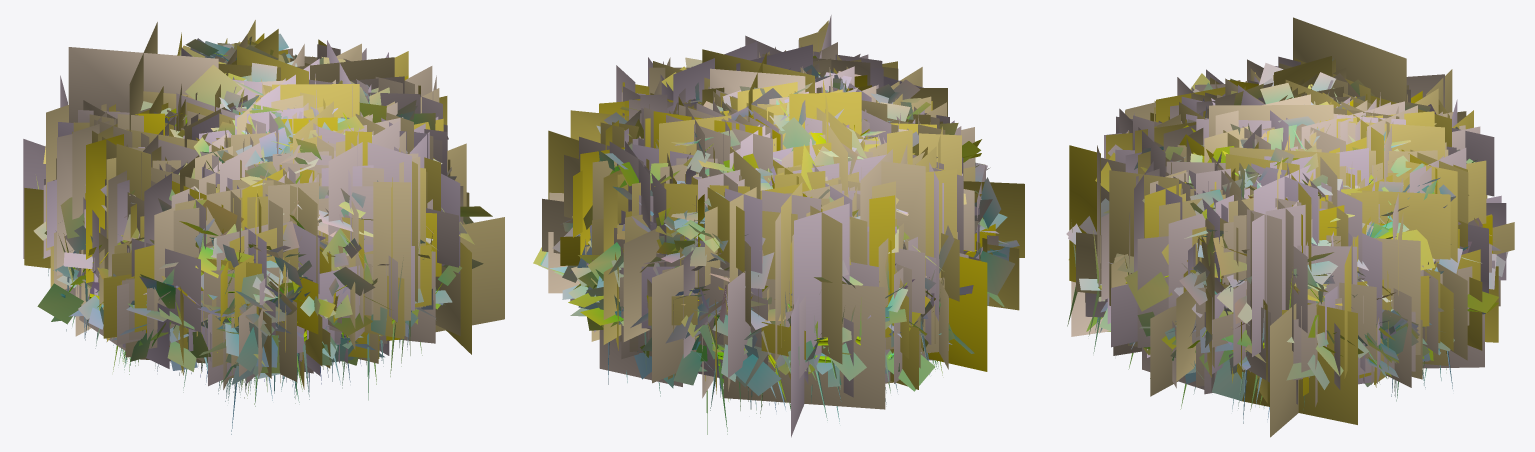
Rendered from heathKit.glb.
3 renders of one model, left to right at view 1: azimuth 30°, elevation 25°; view 2: azimuth 150°, elevation 25°; view 3: azimuth 270°, elevation 25°, orthographic. The views are drawn at different scales.
Visible parts, largest first — view 1: plant_rice_0_L1, plant_pigface_0_L1, plant_daisy_0_L1, plant_daisy_2_L1, plant_green_3_L1, plant_pigface_2_L1, plant_green_0_L0, plant_green_0_L1, plant_tall_2_L1, plant_rice_2_L0, plant_tall_3_L1, plant_pigface_3_L1 (+22 smaller); view 2: plant_green_3_L1, plant_pigface_1_L1, plant_rice_1_L1, plant_rice_3_L1, plant_daisy_0_L1, plant_pigface_3_L1, plant_tall_0_L1, plant_pigface_0_L1, plant_pigface_2_L1, plant_rice_2_L1, plant_rice_0_L1, plant_green_3_L0 (+23 smaller); view 3: plant_rice_2_L1, plant_rice_1_L1, plant_pigface_1_L1, plant_tall_0_L1, plant_rice_3_L1, plant_rice_0_L1, plant_daisy_0_L1, plant_pigface_3_L1, plant_daisy_3_L1, plant_pigface_0_L1, plant_rice_1_L0, plant_green_2_L1 (+23 smaller).
Part boxes in pixels (box(x1,y1,x2,y2)): plant_rice_0_L1: box(68, 22, 469, 383); plant_pigface_0_L1: box(57, 39, 442, 325); plant_daisy_0_L1: box(65, 44, 447, 368); plant_daisy_2_L1: box(24, 51, 504, 354); plant_green_3_L1: box(23, 40, 443, 367); plant_pigface_2_L1: box(94, 44, 420, 283); plant_green_0_L0: box(69, 57, 435, 384); plant_green_0_L1: box(44, 45, 463, 378); plant_tall_2_L1: box(117, 77, 402, 366); plant_rice_2_L0: box(51, 64, 483, 376); plant_tall_3_L1: box(127, 76, 460, 335); plant_pigface_3_L1: box(46, 38, 438, 283); plant_green_3_L1: box(570, 41, 930, 437); plant_pigface_1_L1: box(609, 35, 963, 321); plant_rice_1_L1: box(548, 49, 968, 369); plant_rice_3_L1: box(548, 54, 987, 394); plant_daisy_0_L1: box(625, 44, 987, 383); plant_pigface_3_L1: box(612, 47, 923, 364); plant_tall_0_L1: box(542, 40, 979, 397); plant_pigface_0_L1: box(580, 20, 961, 361); plant_pigface_2_L1: box(599, 89, 961, 347); plant_rice_2_L1: box(592, 51, 974, 389); plant_rice_0_L1: box(594, 15, 1024, 398); plant_green_3_L0: box(568, 64, 981, 395); plant_rice_2_L1: box(1071, 56, 1440, 437); plant_rice_1_L1: box(1101, 97, 1506, 403); plant_pigface_1_L1: box(1109, 66, 1466, 356); plant_tall_0_L1: box(1156, 77, 1494, 351); plant_rice_3_L1: box(1135, 78, 1501, 406); plant_rice_0_L1: box(1076, 17, 1498, 382); plant_daisy_0_L1: box(1154, 75, 1482, 404); plant_pigface_3_L1: box(1104, 69, 1467, 282); plant_daisy_3_L1: box(1114, 124, 1440, 389); plant_pigface_0_L1: box(1069, 56, 1449, 343); plant_rice_1_L0: box(1150, 134, 1500, 386); plant_green_2_L1: box(1214, 80, 1500, 377).
Size of the model in its own units: 2.21 by 1.57 by 2.14.
